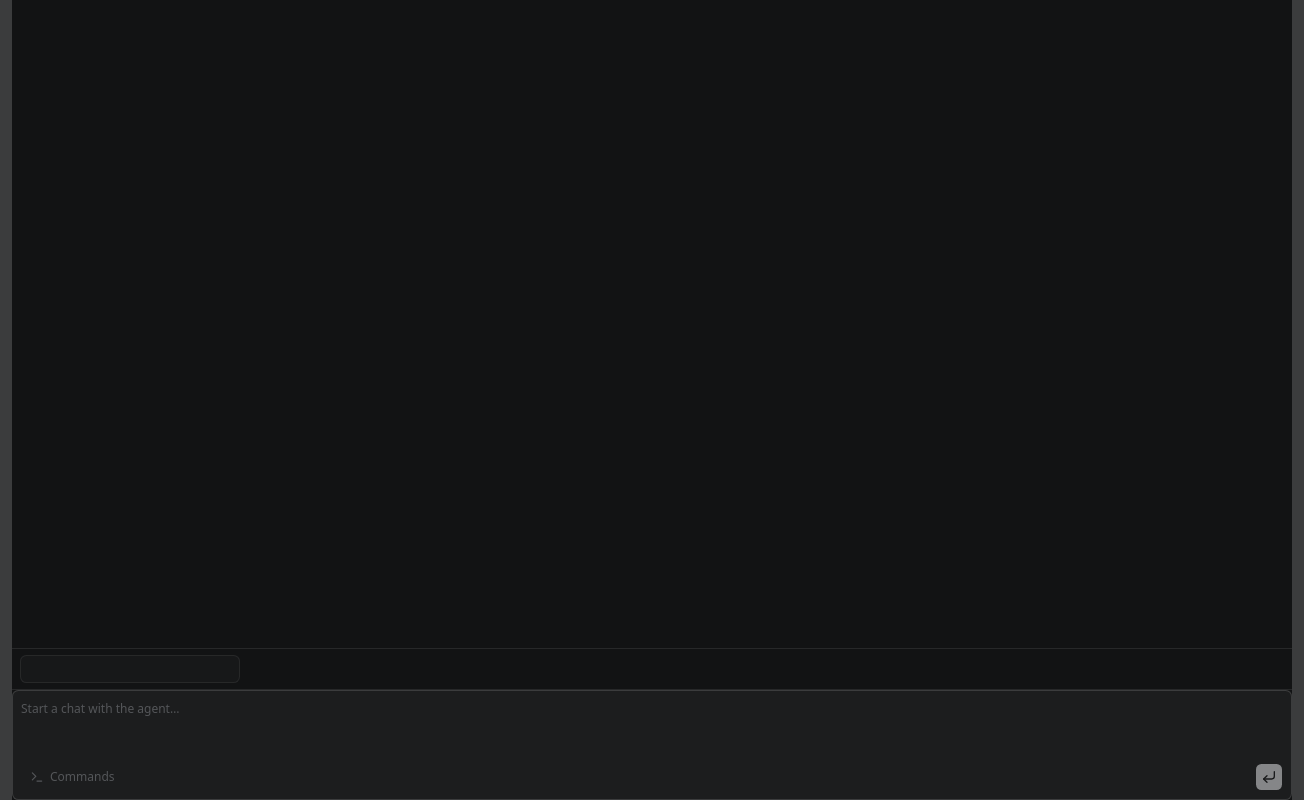
Scenario: ChatPane › exposes slash commands by inserting the selected command into the composer
The image size is (1304, 800).
Press Enter in the button with test id "chat-command-menu", box top-left (21, 763), bottom-right (124, 791)
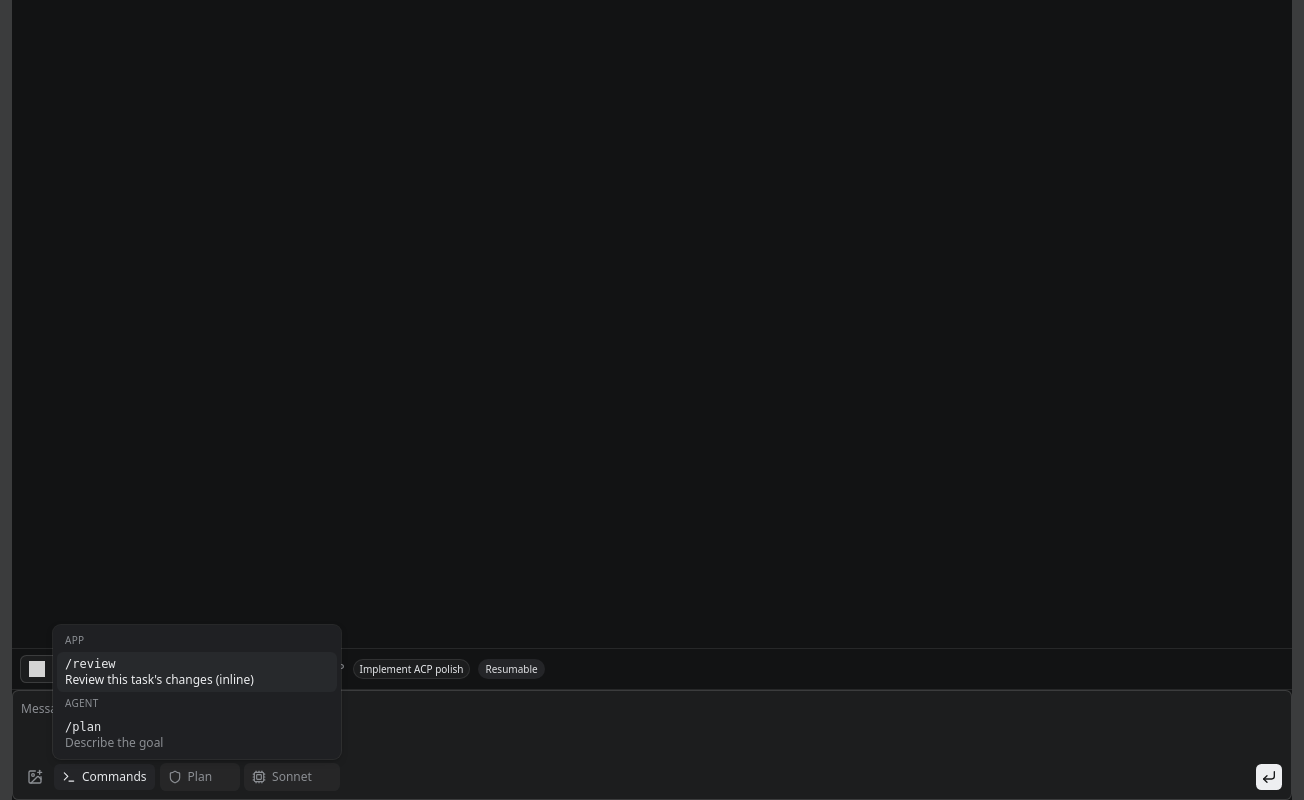
Click the text "/plan". click: [83, 727]
box: top-left (65, 720), bottom-right (101, 734)
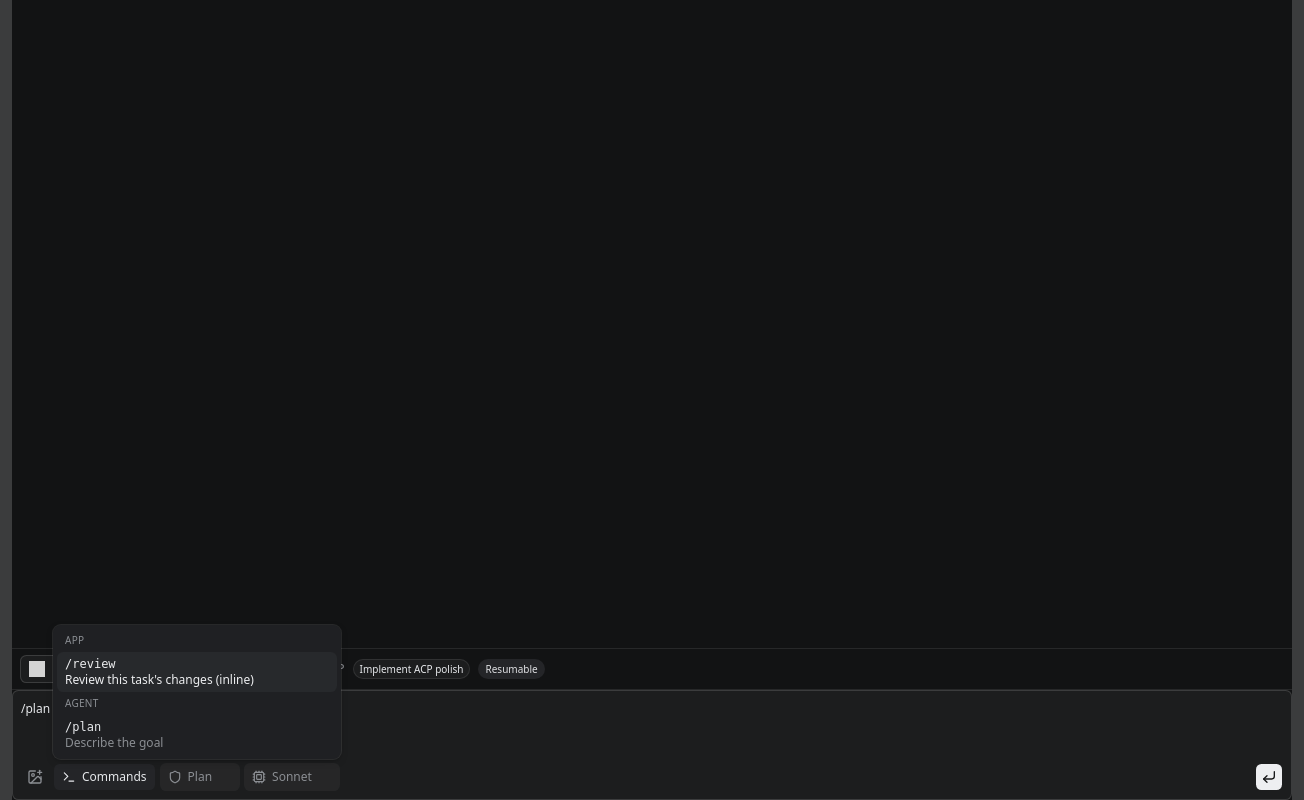
Expected: the text box with test id "chat-composer-input" holds "/plan ", top-left (13, 691), bottom-right (1291, 755)
